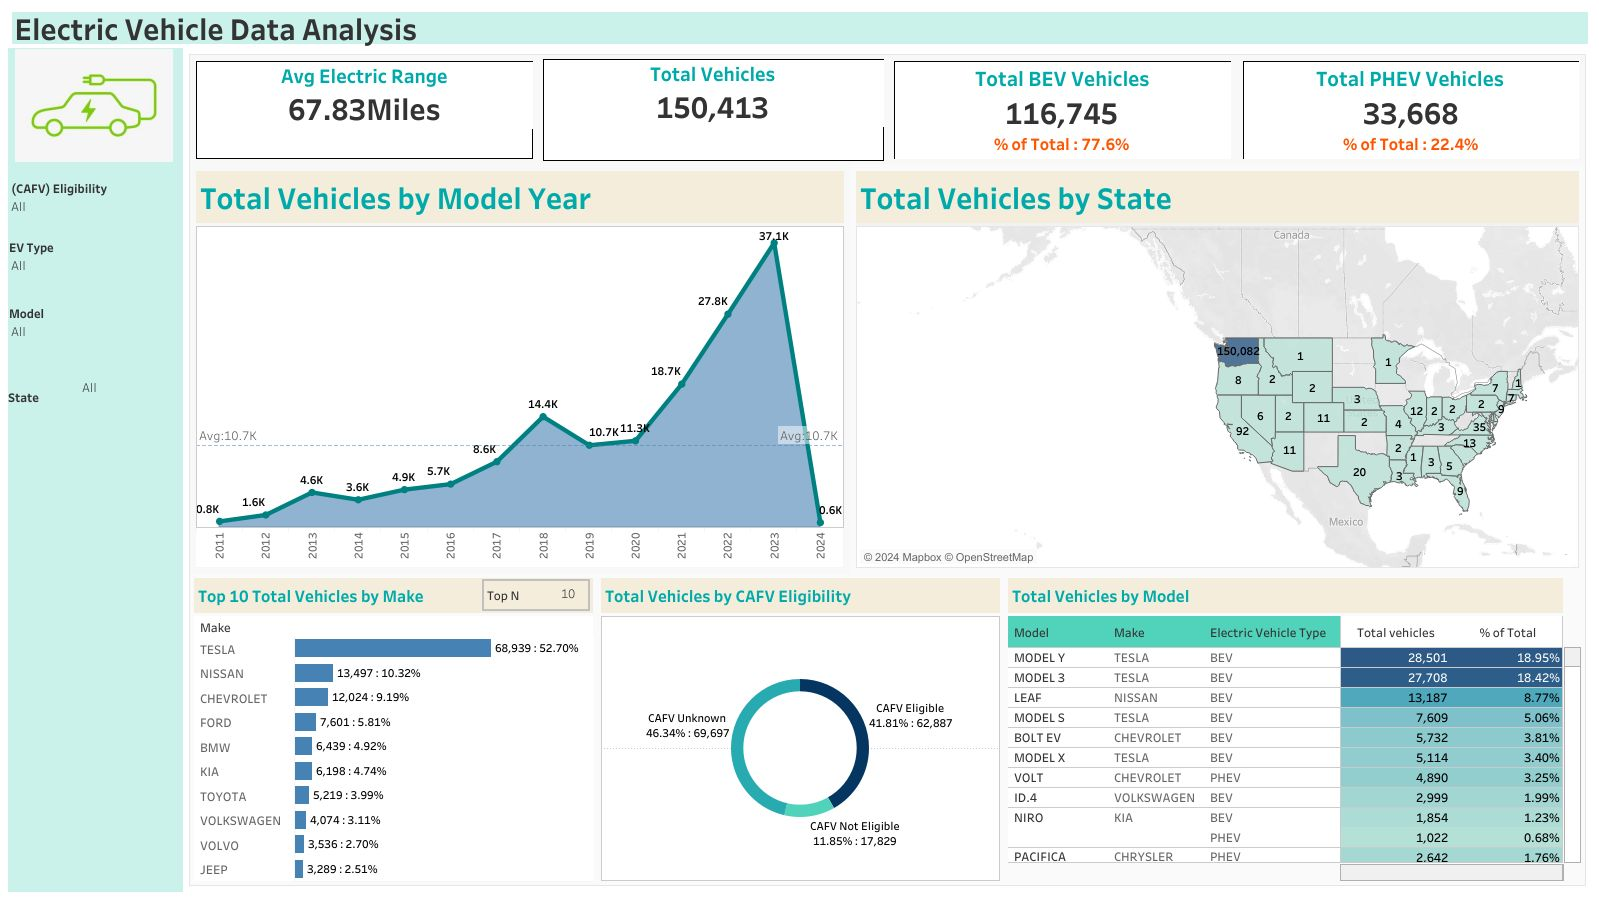

The page's visual inventory and layout, read from the dashboard file:
{"tool":"tableau","page":{"name":"Electric Vehicle Dashboard","canvas":[1600,900],"ordinal":0},"visuals":[{"type":"title","box":[8,8,1584,40]},{"type":"image","param":"Image/vehicle image.jpg","box":[7,49,174,113]},{"type":"worksheet","title":"avg electric range","mark":"Automatic","box":[190,55,349,110]},{"type":"worksheet","title":"total vehicles ","mark":"Automatic","box":[539,55,349,110]},{"type":"worksheet","title":"total BEV Vehicles","mark":"Automatic","box":[888,55,349,110]},{"type":"worksheet","title":"Total PHEV Vehicles","mark":"Automatic","box":[1237,55,348,110]},{"type":"worksheet","title":"Total Vehicles by Model Year ","mark":"Area","rows":["Calculation_1627206880716136448","Calculation_1627206880716136448"],"cols":["Model Year"],"box":[190,165,660,409.2]},{"type":"worksheet","title":"Total Vehicles by State","mark":"Multipolygon","box":[850,165,735,409.2]},{"type":"filter","title":"Total Vehicles by Model Year ","param":"[federated.0lsolwm1d8f8kx169u0zh06l36t9].[none:Clean Alternative Fuel Vehicle (C","box":[9,178,173,48]},{"type":"filter","title":"Top 10 Total Vehicles by Make","param":"[federated.0lsolwm1d8f8kx169u0zh06l36t9].[none:Electric Vehicle Type:nk]","box":[9,237,171,48]},{"type":"filter","title":"Total Vehicles by Model Year ","param":"[federated.0lsolwm1d8f8kx169u0zh06l36t9].[none:Model:nk]","box":[9,303,170,48]},{"type":"filter","title":"Top 10 Total Vehicles by Make","param":"[federated.0lsolwm1d8f8kx169u0zh06l36t9].[none:State:nk]","box":[8,378,171,38]},{"type":"worksheet","title":"Top 10 Total Vehicles by Make","mark":"Automatic","rows":["Make"],"cols":["Calculation_1627206880716136448"],"box":[190,574.2,407.2,310.8]},{"type":"worksheet","title":"Total Vehicles by CAFV Eligibility","mark":"Pie","rows":["Calculation_154529802982055937","Calculation_154529802982055937"],"box":[597.2,574.2,407.3,310.8]},{"type":"worksheet","title":"Total Vehicles by Model","mark":"Square","rows":["Model","Make","Electric Vehicle Type"],"box":[1004.5,574.2,580.5,310.8]},{"type":"parameter","param":"[Parameters].[Parameter 1]","box":[482,579,108,32]}]}

Visuals, with their boxes in screenshot pixels (x1, y1, x2, y2), scaled from the page's 1600x900 canvas onto the 1599x899 screenshot:
title: {"x1": 8, "y1": 8, "x2": 1591, "y2": 48}
image: {"x1": 7, "y1": 49, "x2": 181, "y2": 162}
"avg electric range" worksheet: {"x1": 190, "y1": 55, "x2": 539, "y2": 165}
"total vehicles " worksheet: {"x1": 539, "y1": 55, "x2": 887, "y2": 165}
"total BEV Vehicles" worksheet: {"x1": 887, "y1": 55, "x2": 1236, "y2": 165}
"Total PHEV Vehicles" worksheet: {"x1": 1236, "y1": 55, "x2": 1584, "y2": 165}
"Total Vehicles by Model Year " worksheet (Area marks): {"x1": 190, "y1": 165, "x2": 849, "y2": 574}
"Total Vehicles by State" worksheet (Multipolygon marks): {"x1": 849, "y1": 165, "x2": 1584, "y2": 574}
"Total Vehicles by Model Year " filter: {"x1": 9, "y1": 178, "x2": 182, "y2": 226}
"Top 10 Total Vehicles by Make" filter: {"x1": 9, "y1": 237, "x2": 180, "y2": 285}
"Total Vehicles by Model Year " filter: {"x1": 9, "y1": 303, "x2": 179, "y2": 351}
"Top 10 Total Vehicles by Make" filter: {"x1": 8, "y1": 378, "x2": 179, "y2": 416}
"Top 10 Total Vehicles by Make" worksheet: {"x1": 190, "y1": 574, "x2": 597, "y2": 884}
"Total Vehicles by CAFV Eligibility" worksheet (Pie marks): {"x1": 597, "y1": 574, "x2": 1004, "y2": 884}
"Total Vehicles by Model" worksheet (Square marks): {"x1": 1004, "y1": 574, "x2": 1584, "y2": 884}
parameter: {"x1": 482, "y1": 578, "x2": 590, "y2": 610}
